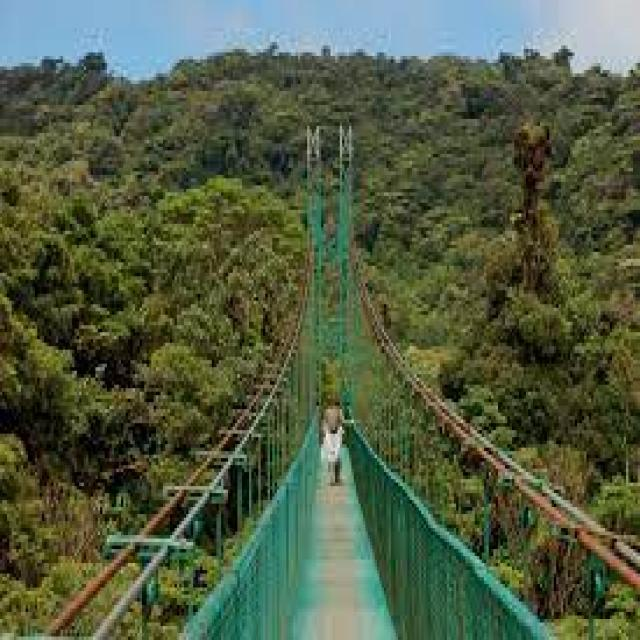Bridges: (94, 83, 623, 640)
